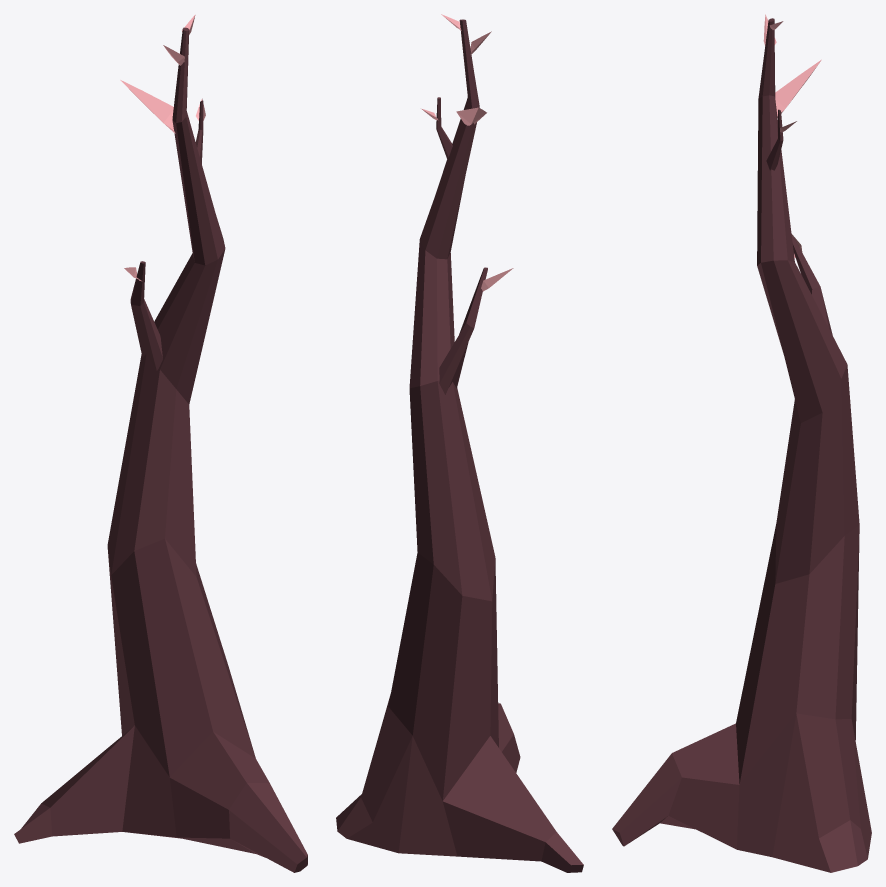
File: scifi-tree-willow-small.fbx
The picture shows the model from 3 angles, left to right: view 1: azimuth 30°, elevation 25°; view 2: azimuth 150°, elevation 25°; view 3: azimuth 270°, elevation 25°; orthographic projection.
Visible parts, largest first — view 1: scifi-tree-willow-small; view 2: scifi-tree-willow-small; view 3: scifi-tree-willow-small.
Part boxes in pixels (x1,y1,x2,y2): scifi-tree-willow-small: (14,14,307,872); scifi-tree-willow-small: (336,14,583,872); scifi-tree-willow-small: (612,14,871,872).
Bounding box in the file's own units: 1.16 × 3.68 × 1.07.
